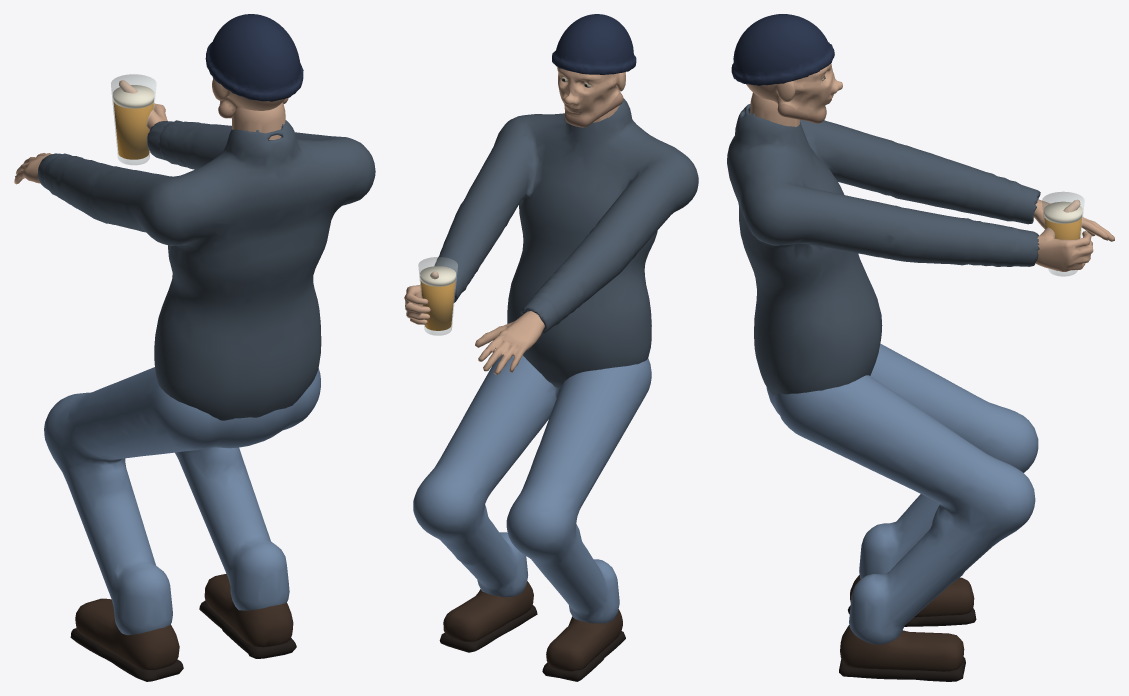
Rendered from patron_e.glb.
3 views of the same model, side by side, from view 1: azimuth 30°, elevation 25°; view 2: azimuth 150°, elevation 25°; view 3: azimuth 270°, elevation 25° (orthographic). The views are drawn at different scales.
Visible parts, largest first — view 1: patron_e_body, patron_e_head, pint, patron_e_hands, pint_beer, pint_foam; view 2: patron_e_body, patron_e_head, patron_e_hands, pint, pint_beer, pint_foam; view 3: patron_e_body, patron_e_head, patron_e_hands, pint, pint_foam.
Part boxes in pixels (x1,y1,x2,y2): patron_e_body: [43, 102, 375, 681]; patron_e_head: [205, 14, 303, 118]; pint: [111, 74, 156, 164]; patron_e_hands: [14, 80, 173, 189]; pint_beer: [113, 101, 153, 159]; pint_foam: [113, 85, 154, 108]; patron_e_body: [413, 89, 698, 681]; patron_e_head: [552, 14, 636, 127]; patron_e_hands: [404, 262, 562, 374]; pint: [418, 257, 457, 335]; pint_beer: [420, 280, 455, 330]; pint_foam: [420, 266, 455, 286]; patron_e_body: [727, 92, 1038, 681]; patron_e_head: [731, 14, 842, 123]; patron_e_hands: [1009, 184, 1114, 271]; pint: [1042, 192, 1084, 276]; pint_foam: [1044, 201, 1082, 223].
Size of the model in its own units: 0.4856 by 1.39 by 0.7791.
